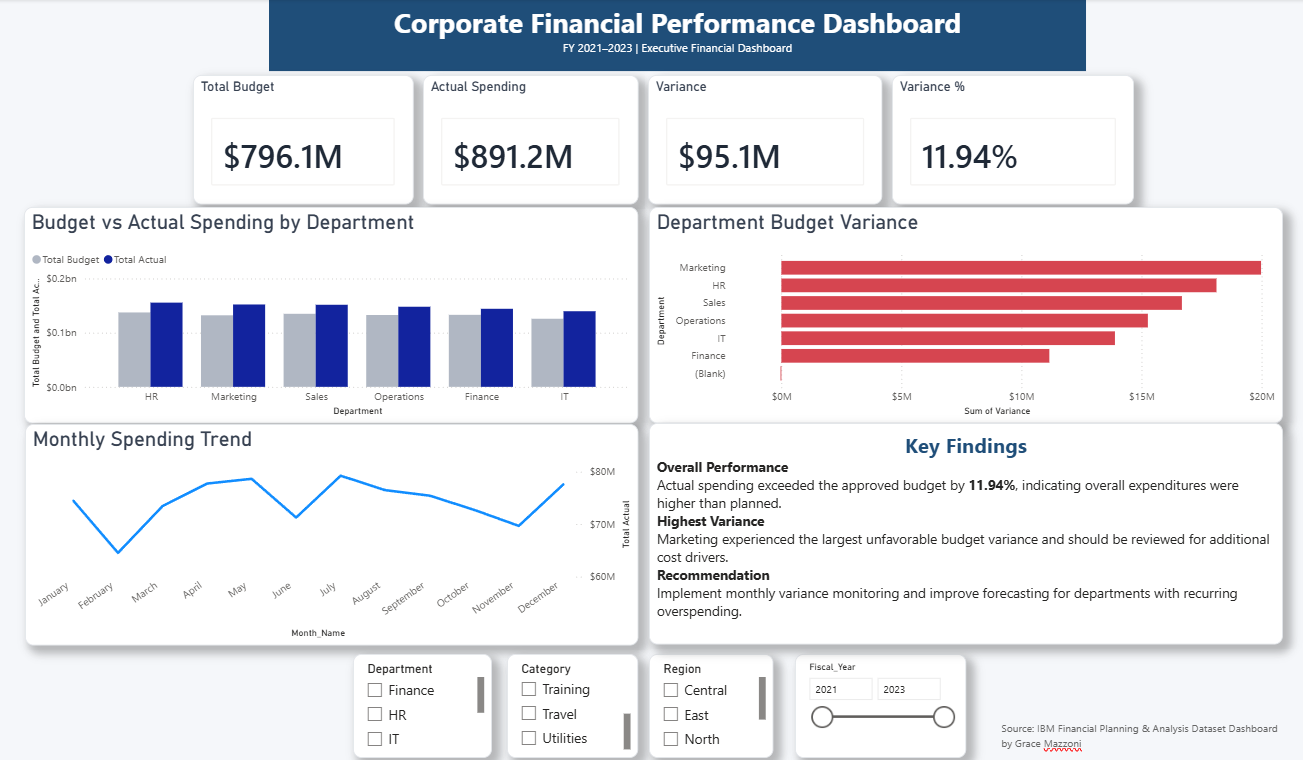

Layout of this report page (visuals, bound fields, positions):
{"tool":"powerbi","page":{"name":"Page 1","canvas":[1540,900],"ordinal":0},"visuals":[{"type":"shape","box":[320.5,0,959,84.6],"z":0},{"type":"textbox","box":[383.7,0,832.6,76.8],"z":1000},{"type":"cardVisual","title":"Total Budget","fields":{"Data":["Sum(Financial_data.Budget_Amount)"]},"box":[231.7,89.2,258.7,151.7],"z":2000},{"type":"cardVisual","title":"Actual Spending","fields":{"Data":["Sum(Financial_data.Actual_Amount)"]},"box":[501.5,89.2,252.9,151.7],"z":3000},{"type":"cardVisual","title":"Variance","fields":{"Data":["Sum(Financial_data.Variance)"]},"box":[765.4,89.2,275.3,151.7],"z":4000},{"type":"cardVisual","title":"Variance %","fields":{"Data":["Financial_data.Variance %"]},"box":[1051.7,89.2,284,151.7],"z":5000},{"type":"clusteredColumnChart","title":"Budget vs Actual Spending by Department","fields":{"Category":["Financial_data.Department"],"Y":["Financial_data.Total Budget","Financial_data.Total Actual"]},"box":[32.8,244.4,721,254.1],"z":6000},{"type":"clusteredBarChart","title":"Department Budget Variance","fields":{"Category":["Financial_data.Department"],"Y":["Sum(Financial_data.Variance)"]},"box":[766,244.4,744.1,254.1],"z":7000},{"type":"lineChart","title":"Monthly Spending Trend","fields":{"Category":["Financial_data.Month_Name"],"Y2":["Financial_data.Total Actual"]},"box":[34,498.5,719.8,260.2],"z":8000},{"type":"slicer","fields":{"Values":["Financial_data.Department"]},"box":[419.5,768.4,162.9,121.6],"z":9000},{"type":"slicer","fields":{"Values":["Financial_data.Category"]},"box":[599.4,768.4,154.4,121.6],"z":10000},{"type":"slicer","fields":{"Values":["Financial_data.Region"]},"box":[766,768.4,145.9,121.6],"z":12000},{"type":"slicer","fields":{"Values":["Financial_data.Fiscal_Year"]},"box":[937.4,768.4,200.6,121.6],"z":12500},{"type":"textbox","box":[766,498,744,260],"z":12501},{"type":"textbox","box":[1175,841.6,343.9,58.7],"z":12502}]}

Visuals, with their boxes in screenshot pixels (x1, y1, x2, y2), scaled from the page's 1540x900 canvas onto the 1303x760 screenshot:
shape: (left=271, top=0, right=1083, bottom=71)
textbox: (left=325, top=0, right=1029, bottom=65)
"Total Budget" cardVisual: (left=196, top=75, right=415, bottom=203)
"Actual Spending" cardVisual: (left=424, top=75, right=638, bottom=203)
"Variance" cardVisual: (left=648, top=75, right=881, bottom=203)
"Variance %" cardVisual: (left=890, top=75, right=1130, bottom=203)
"Budget vs Actual Spending by Department" clusteredColumnChart: (left=28, top=206, right=638, bottom=421)
"Department Budget Variance" clusteredBarChart: (left=648, top=206, right=1278, bottom=421)
"Monthly Spending Trend" lineChart: (left=29, top=421, right=638, bottom=641)
slicer - Financial_data.Department: (left=355, top=649, right=493, bottom=752)
slicer - Financial_data.Category: (left=507, top=649, right=638, bottom=752)
slicer - Financial_data.Region: (left=648, top=649, right=772, bottom=752)
slicer - Financial_data.Fiscal_Year: (left=793, top=649, right=963, bottom=752)
textbox: (left=648, top=421, right=1278, bottom=640)
textbox: (left=994, top=711, right=1285, bottom=759)
